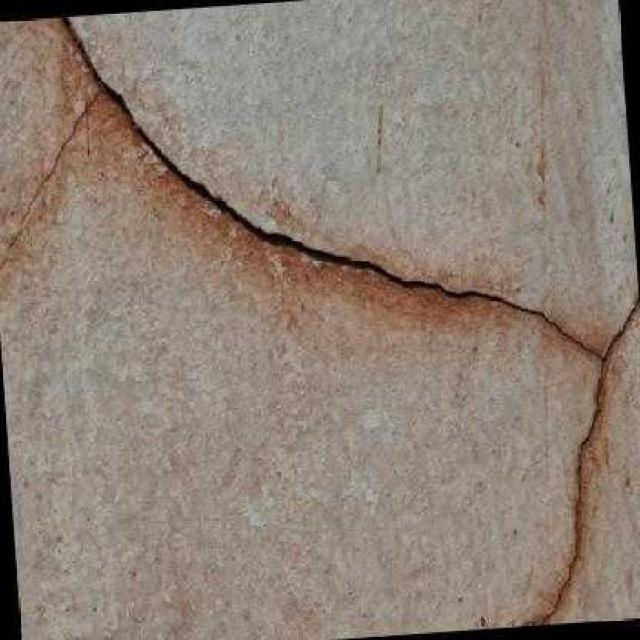D00: (62, 17, 640, 626)
